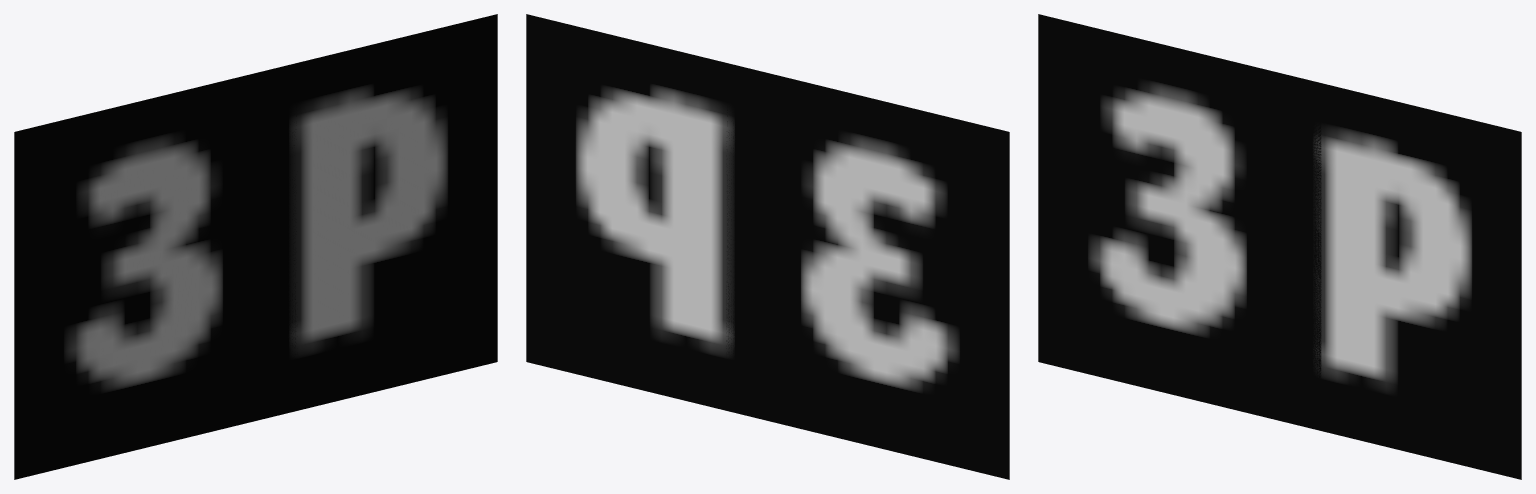
The picture shows the model from 3 angles, left to right: view 1: azimuth 30°, elevation 25°; view 2: azimuth 150°, elevation 25°; view 3: azimuth 330°, elevation 25°; orthographic projection.
Visible parts, largest first — view 1: Joint_0_Object_0; view 2: Joint_0_Object_0; view 3: Joint_0_Object_0.
Part boxes in pixels (left/top/right/bottom): Joint_0_Object_0: left=14, top=14, right=497, bottom=479; Joint_0_Object_0: left=526, top=14, right=1009, bottom=479; Joint_0_Object_0: left=1038, top=14, right=1521, bottom=479.
Bounding box in the file's own units: 26.39 × 18.14 × 0.
1 material, 1 textured.
